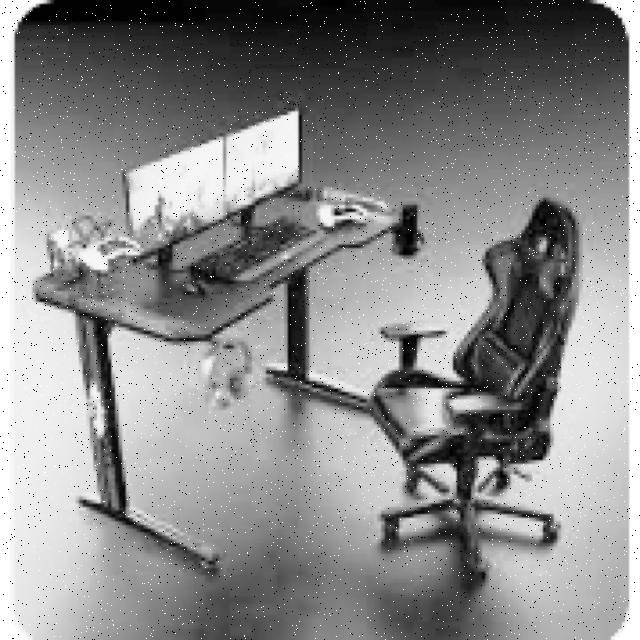book: (370, 194, 582, 583)
table: (32, 180, 410, 568)
